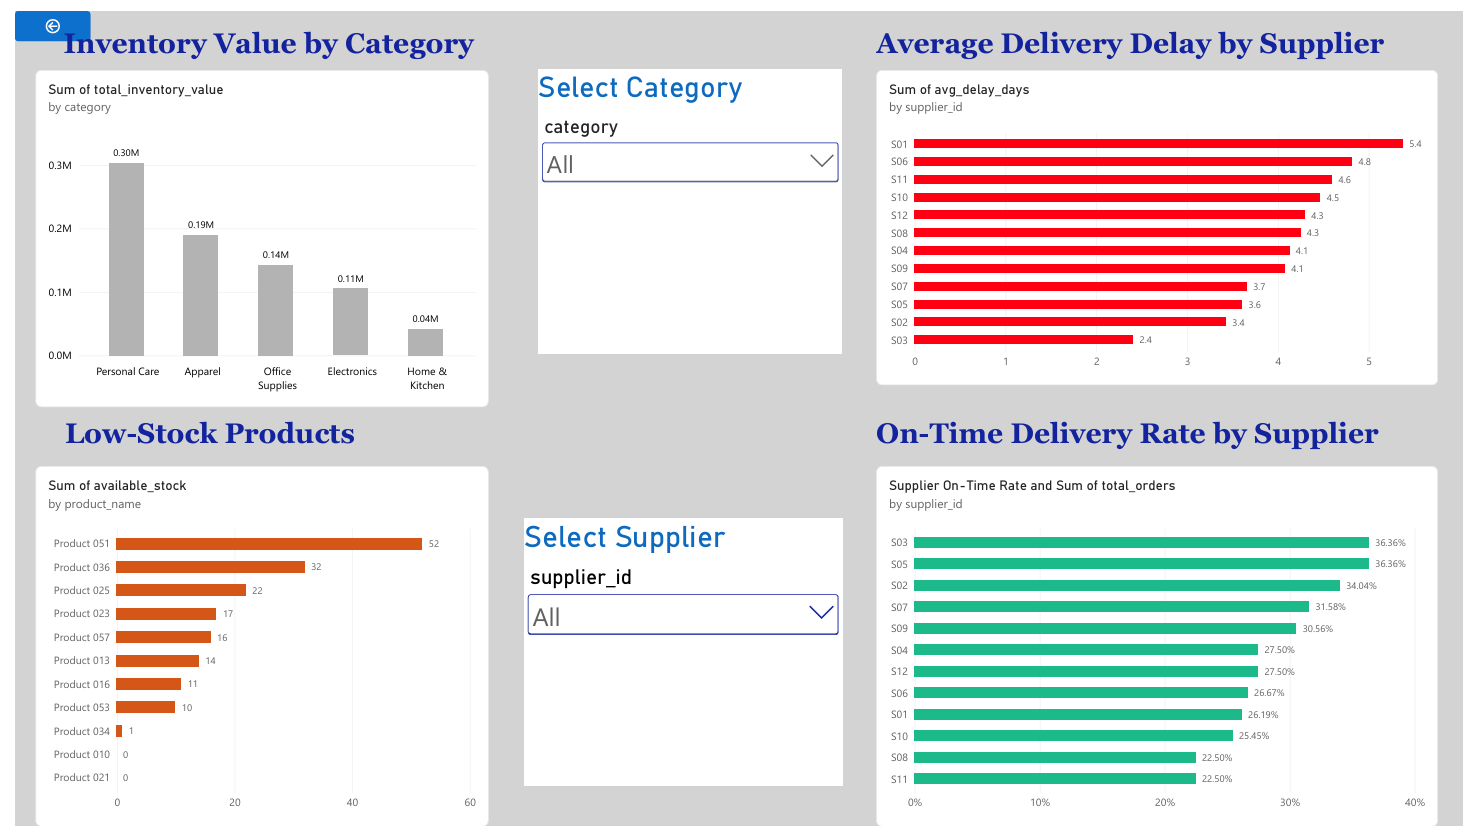

The dashboard page shown, as its layout file describes it:
{"tool":"powerbi","page":{"name":"Inventory & Supplier Analysis.","canvas":[1920,1080],"ordinal":1},"visuals":[{"type":"clusteredColumnChart","fields":{"Category":["category_inventory.category"],"Y":["Sum(category_inventory.total_inventory_value)"]},"box":[26.8,78.2,601,446.7],"z":0},{"type":"clusteredBarChart","fields":{"Category":["inventory_analysis.product_name"],"Y":["Sum(inventory_analysis.available_stock)"]},"box":[26.8,603.1,601,477.5],"z":1},{"type":"actionButton","box":[0,0,100,40],"z":3},{"type":"clusteredBarChart","fields":{"Category":["supplier_performance.supplier_id"],"Y":["category_inventory.Supplier On-Time Rate"]},"box":[1142.4,603.1,745.1,477.5],"z":4},{"type":"textbox","box":[49.4,20.6,753.3,57.6],"z":5},{"type":"textbox","box":[65.9,539.3,533.1,63.8],"z":6},{"type":"textbox","box":[1142.4,20.6,701.9,57.6],"z":7},{"type":"textbox","box":[1142.4,539.3,745.1,49.4],"z":8},{"type":"slicer","title":"Select Supplier","fields":{"Values":["supplier_performance.supplier_id"]},"box":[675.1,673.1,422,354],"z":9},{"type":"clusteredBarChart","fields":{"Category":["supplier_performance.supplier_id"],"Y":["Sum(supplier_performance.avg_delay_days)"]},"box":[1142.4,78.2,745.1,417.8],"z":10},{"type":"slicer","title":"Select Category","fields":{"Values":["inventory_analysis.category"]},"box":[693.7,78.2,403.4,376.7],"z":11}]}

Visuals, with their boxes in screenshot pixels (x1, y1, x2, y2), scaled from the page's 1920x1080 canvas onto the 1464x834 screenshot:
clusteredColumnChart - category_inventory.category x Sum(category_inventory.total_inventory_value): BBox(20, 60, 479, 405)
clusteredBarChart - inventory_analysis.product_name x Sum(inventory_analysis.available_stock): BBox(20, 466, 479, 833)
actionButton: BBox(0, 0, 76, 31)
clusteredBarChart - supplier_performance.supplier_id x category_inventory.Supplier On-Time Rate: BBox(871, 466, 1439, 833)
textbox: BBox(38, 16, 612, 60)
textbox: BBox(50, 416, 457, 466)
textbox: BBox(871, 16, 1406, 60)
textbox: BBox(871, 416, 1439, 455)
"Select Supplier" slicer: BBox(515, 520, 837, 793)
clusteredBarChart - supplier_performance.supplier_id x Sum(supplier_performance.avg_delay_days): BBox(871, 60, 1439, 383)
"Select Category" slicer: BBox(529, 60, 837, 351)
